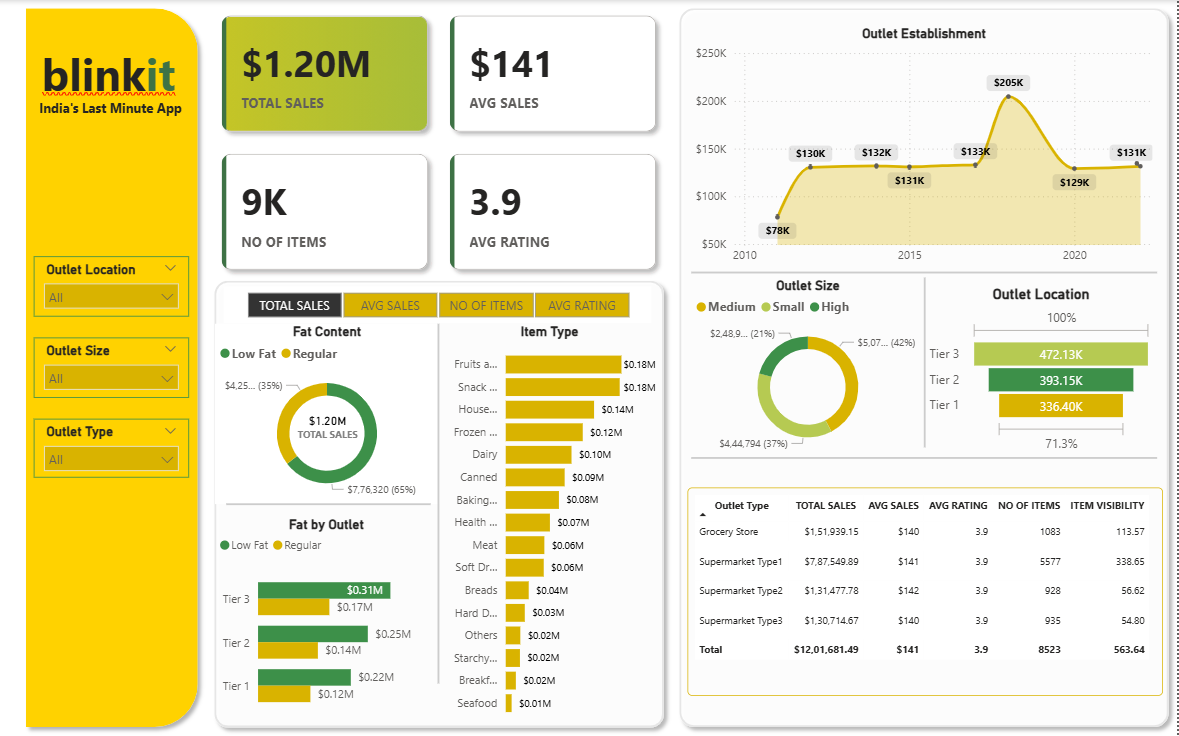

What the dashboard file says about the page in this screenshot:
{"tool":"powerbi","page":{"name":"Dashboard","canvas":[1280,800],"ordinal":0},"visuals":[{"type":"shape","box":[18.8,0,204.9,799.3],"z":0},{"type":"textbox","box":[33.3,41.7,168.3,93.3],"z":1000},{"type":"textbox","box":[18.3,103.3,205,53.3],"z":2000},{"type":"cardVisual","fields":{"Data":["BlinkIT Grocery Data.Total Sales","BlinkIT Grocery Data.Avg. Sales","BlinkIT Grocery Data.No of Items","BlinkIT Grocery Data.Avg. Rating"]},"box":[223.6,0,506.4,311.6],"z":3000},{"type":"shape","box":[223.6,295.8,506.4,503.5],"z":4000},{"type":"donutChart","title":"Fat Content","fields":{"Y":["BlinkIT Grocery Data.TOTAL SALES"],"Category":["BlinkIT Grocery Data.Item Fat Content"]},"box":[233.7,352,243.8,196.2],"z":5000},{"type":"slicer","fields":{"Values":["Matrics.Matrics"]},"box":[243.8,311.6,464.6,40.4],"z":6000},{"type":"cardVisual","fields":{"Data":["BlinkIT Grocery Data.TOTAL SALES"]},"box":[301.5,424.2,109.6,80.8],"z":7000},{"type":"clusteredBarChart","title":"Fat by Outlet","fields":{"Y":["BlinkIT Grocery Data.TOTAL SALES"],"Category":["BlinkIT Grocery Data.Outlet Location Type"],"Series":["BlinkIT Grocery Data.Item Fat Content"]},"box":[233.7,561.2,242.4,228],"z":8000},{"type":"barChart","title":"Item Type","fields":{"Y":["BlinkIT Grocery Data.TOTAL SALES"],"Category":["BlinkIT Grocery Data.Item Type"]},"box":[477.6,352,240.9,437.2],"z":9000},{"type":"shape","box":[447.3,352,59.2,391],"z":10000},{"type":"shape","box":[245.3,516.5,222.2,63.5],"z":11000},{"type":"shape","box":[730,0,549.7,799.3],"z":12000},{"type":"lineChart","title":"Outlet Establishment","fields":{"Category":["BlinkIT Grocery Data.Outlet Establishment Year"],"Y":["BlinkIT Grocery Data.TOTAL SALES"]},"box":[751.7,27.4,506.4,268.4],"z":13000},{"type":"shape","box":[751.7,261.1,506.4,70.7],"z":14000},{"type":"donutChart","title":"Outlet Size","fields":{"Category":["BlinkIT Grocery Data.Outlet Size"],"Y":["BlinkIT Grocery Data.TOTAL SALES"]},"box":[751.7,301.5,253.9,196.2],"z":15000},{"type":"funnel","title":"Outlet Location ","fields":{"Category":["BlinkIT Grocery Data.Outlet Location Type"],"Y":["Sum(BlinkIT Grocery Data.Sales)"]},"box":[1005.6,311.6,252.5,186.1],"z":16000},{"type":"shape","box":[975.3,301.5,59.2,184.7],"z":17000},{"type":"shape","box":[751.7,466,506.4,63.5],"z":18000},{"type":"pivotTable","fields":{"Rows":["BlinkIT Grocery Data.Outlet Type"],"Values":["BlinkIT Grocery Data.TOTAL SALES","BlinkIT Grocery Data.AVG SALES","BlinkIT Grocery Data.AVG RATING","BlinkIT Grocery Data.NO OF ITEMS","Sum(BlinkIT Grocery Data.Item Visibility)"]},"box":[747.4,529.5,516.5,226.5],"z":19000},{"type":"slicer","fields":{"Values":["BlinkIT Grocery Data.Outlet Location Type"]},"box":[36.7,278.5,168.5,65.2],"z":20000},{"type":"slicer","fields":{"Values":["BlinkIT Grocery Data.Outlet Size"]},"box":[36.7,366.8,168.5,65.2],"z":21000},{"type":"slicer","fields":{"Values":["BlinkIT Grocery Data.Outlet Type"]},"box":[36.7,455.2,168.5,63.9],"z":22000}]}

Visuals, with their boxes in screenshot pixels (x1, y1, x2, y2), scaled from the page's 1280x800 canvas onto the 1179x736 screenshot:
shape: 17, 0, 206, 735
textbox: 31, 38, 186, 124
textbox: 17, 95, 206, 144
cardVisual - BlinkIT Grocery Data.Total Sales x BlinkIT Grocery Data.Avg. Sales: 206, 0, 672, 287
shape: 206, 272, 672, 735
"Fat Content" donutChart: 215, 324, 440, 504
slicer - Matrics.Matrics: 225, 287, 653, 324
cardVisual - BlinkIT Grocery Data.TOTAL SALES: 278, 390, 379, 465
"Fat by Outlet" clusteredBarChart: 215, 516, 439, 726
"Item Type" barChart: 440, 324, 662, 726
shape: 412, 324, 467, 684
shape: 226, 475, 431, 534
shape: 672, 0, 1178, 735
"Outlet Establishment" lineChart: 692, 25, 1159, 272
shape: 692, 240, 1159, 305
"Outlet Size" donutChart: 692, 277, 926, 458
"Outlet Location " funnel: 926, 287, 1159, 458
shape: 898, 277, 953, 447
shape: 692, 429, 1159, 487
pivotTable - BlinkIT Grocery Data.Outlet Type x BlinkIT Grocery Data.TOTAL SALES: 688, 487, 1164, 696
slicer - BlinkIT Grocery Data.Outlet Location Type: 34, 256, 189, 316
slicer - BlinkIT Grocery Data.Outlet Size: 34, 337, 189, 397
slicer - BlinkIT Grocery Data.Outlet Type: 34, 419, 189, 478
